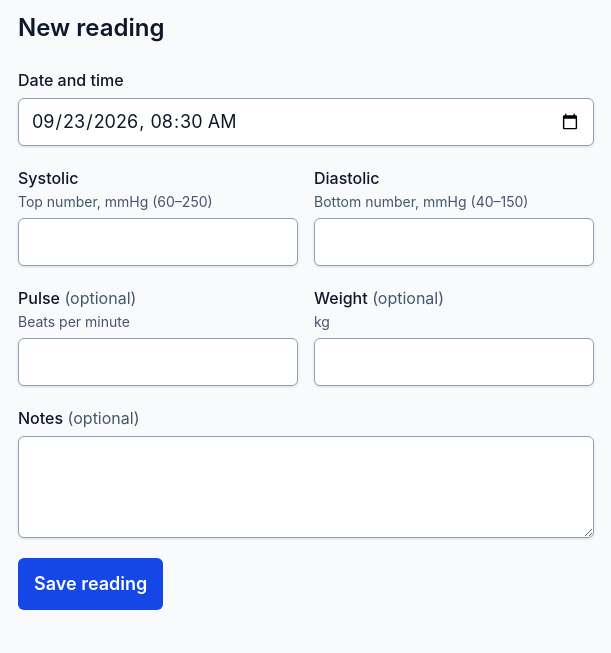
Test: NewReading › invalid submit › requires systolic and diastolic
Click the button "Save reading".
click(91, 584)  # box [18,558,163,610]
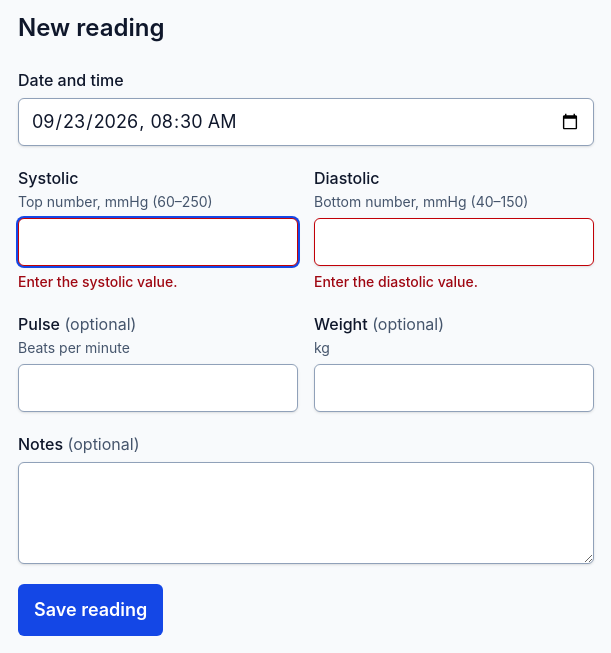
Result: the text "Enter the systolic value." is shown at [18,273,177,290]
Result: the text "Enter the diastolic value." is shown at [314,273,478,290]
